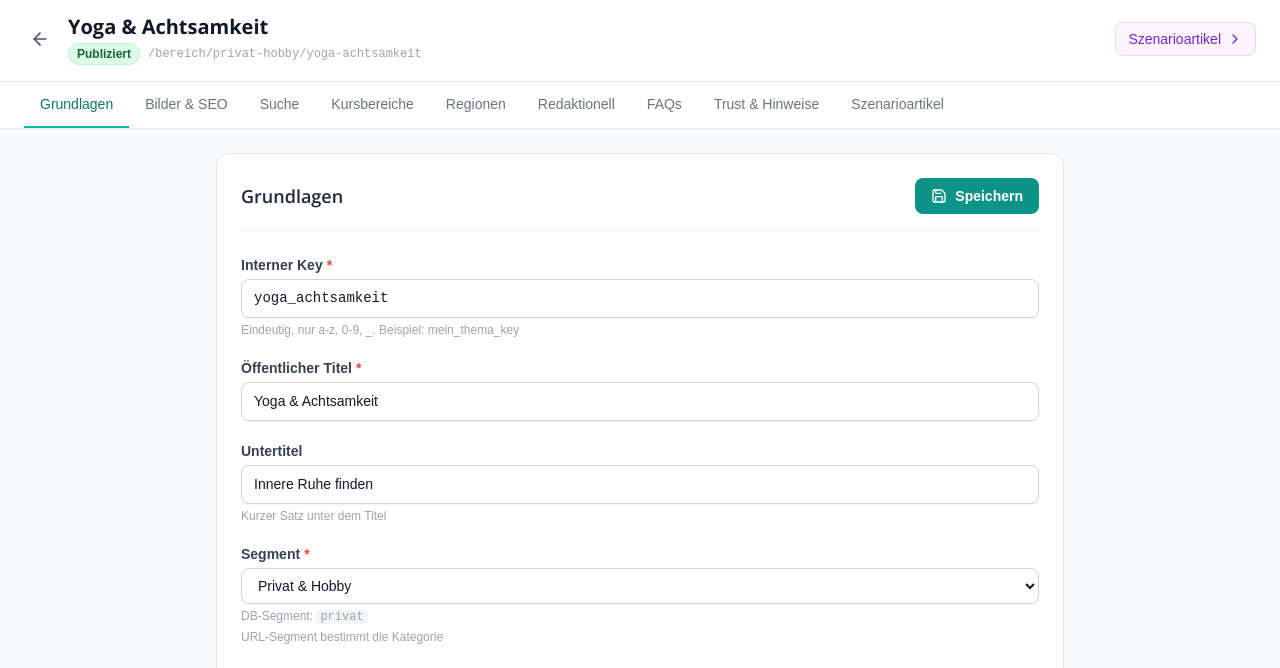
Test case: Phase 8.6 — Admin-Editor: predefined_searches › Yoga-Daten: predefined_searches werden korrekt geladen
Click the button "Suche" at (280, 105), box [244,82,315,128]
(page scrolled)
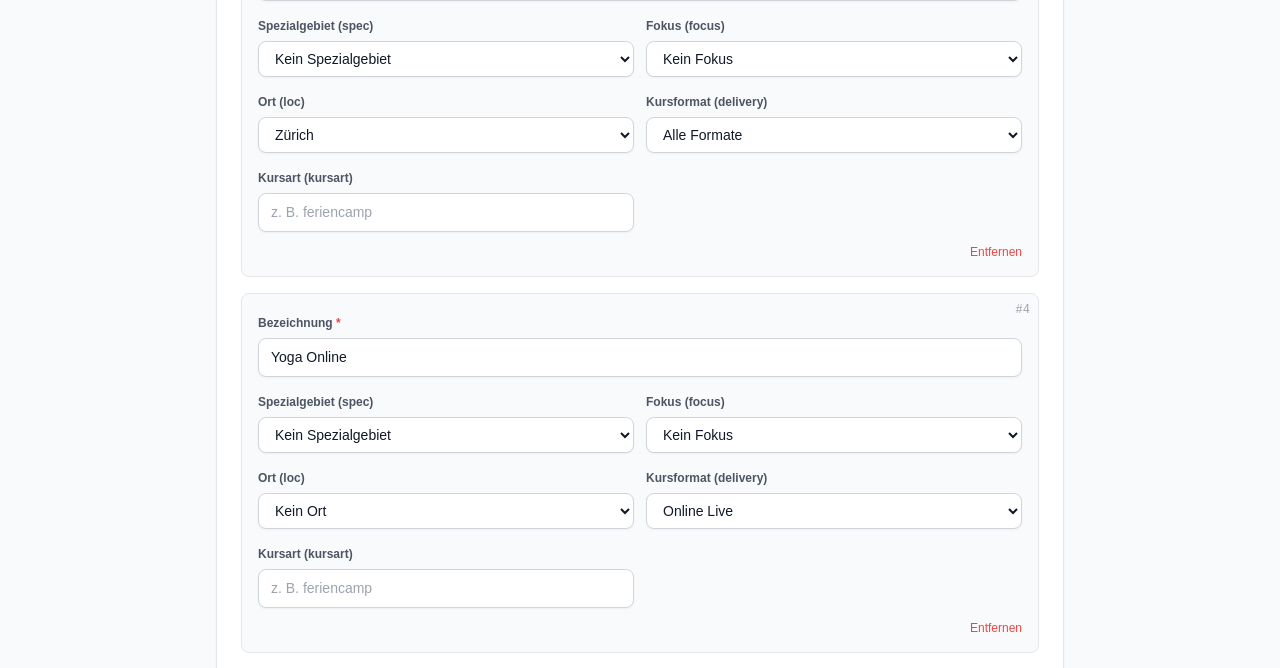
Result: the 2nd field showing "Yoga Online" is shown at [258,338,1022,377]
